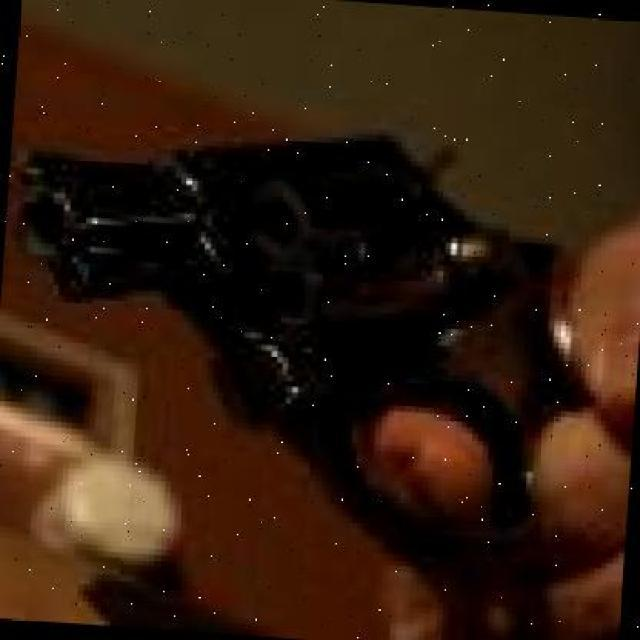rifle: (21, 112, 596, 417)
